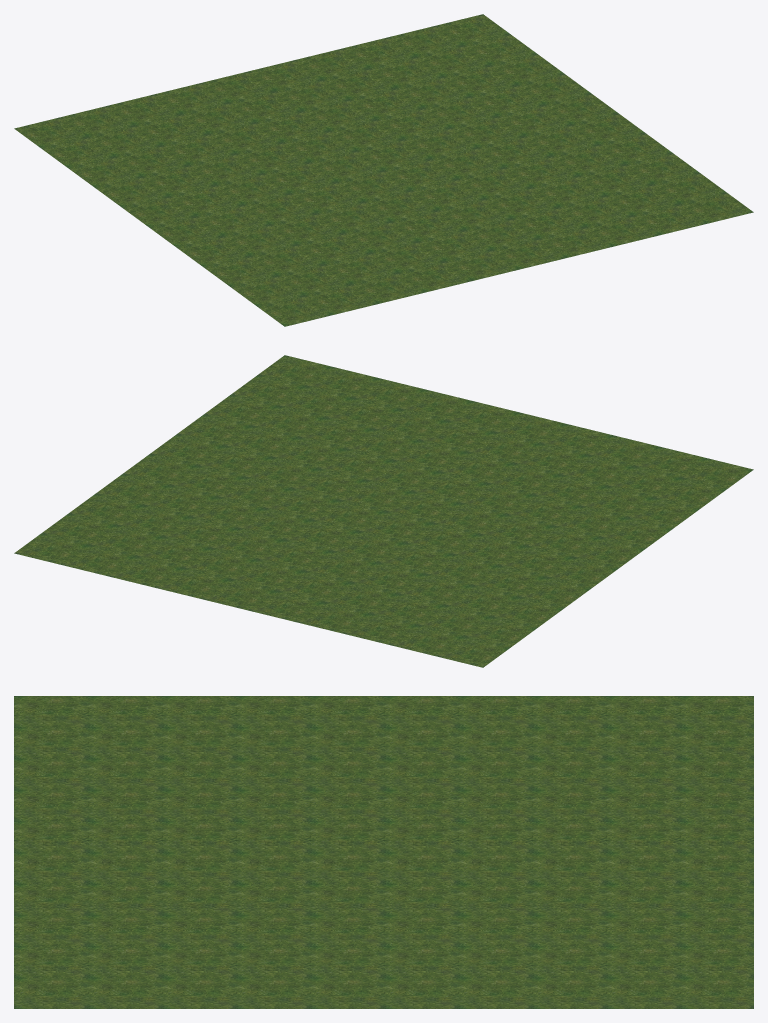
Rendered from Grass3.glb.
The picture shows the model from 3 angles, top to bottom: view 1: azimuth 30°, elevation 25°; view 2: azimuth 150°, elevation 25°; view 3: azimuth 270°, elevation 25°; orthographic projection. The views are drawn at different scales.
Bounding box in the file's own units: 100 × 0.000774 × 100.
Materials: 1 (1 with a texture image).
